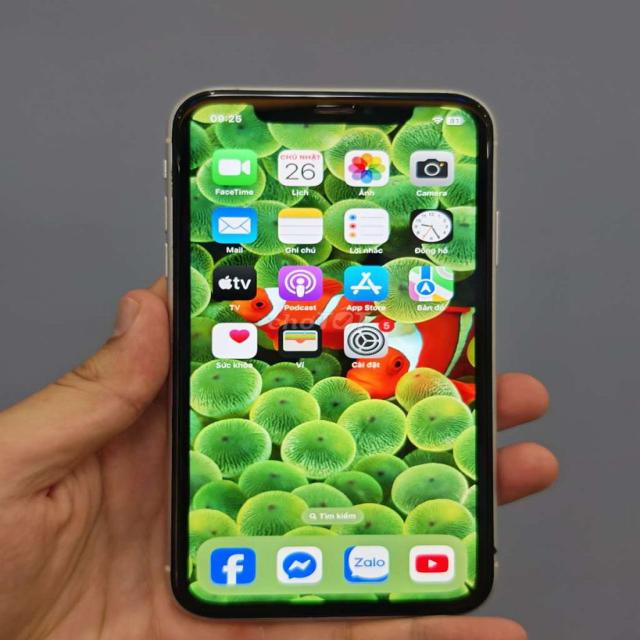gen_x_xs: (145, 77, 512, 625)
